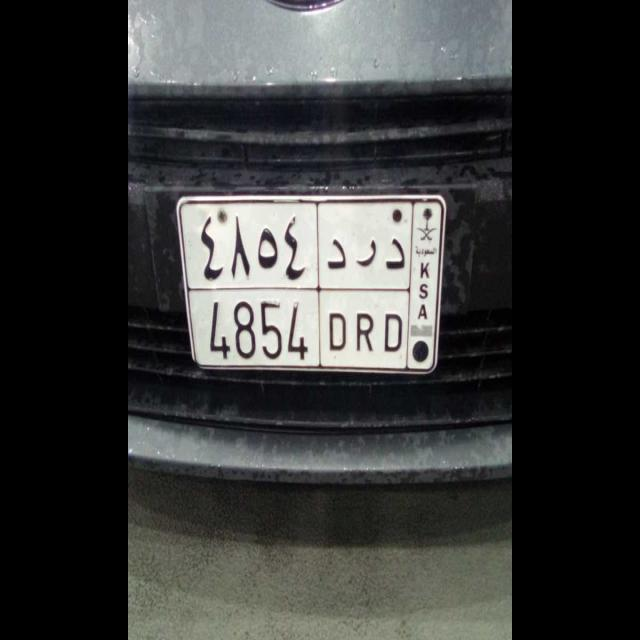license_plate: (197, 290, 411, 374)
